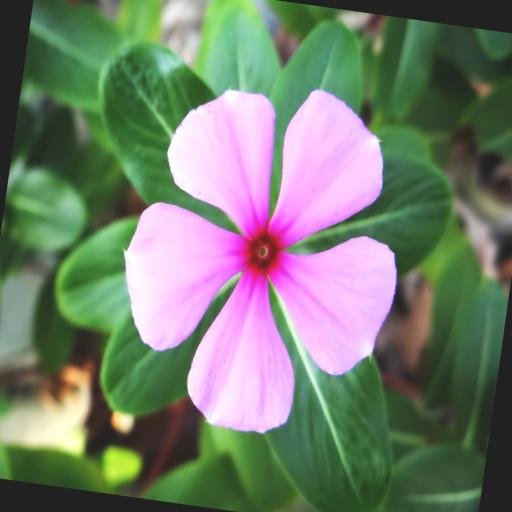Periwinkle: (118, 83, 411, 438)
